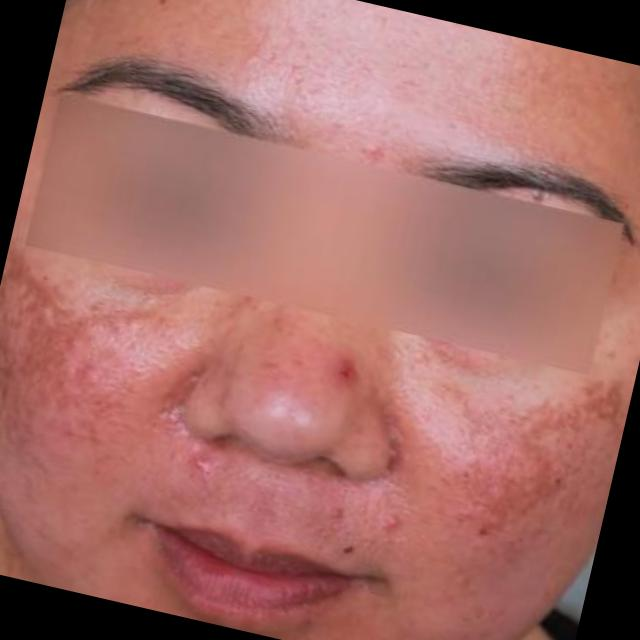melasma: (382, 340, 635, 640), (0, 245, 222, 533)
